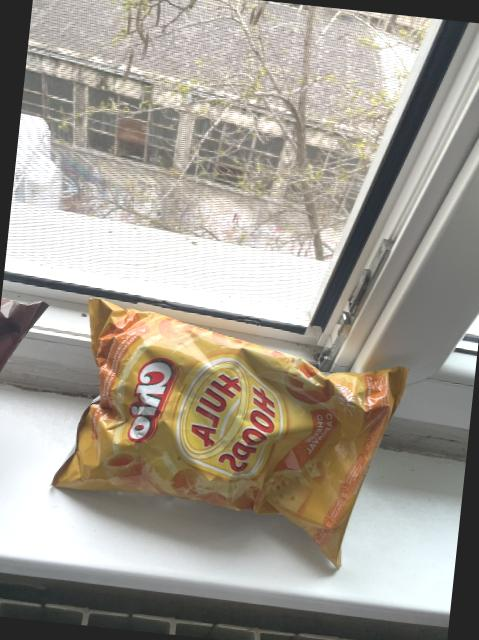Chio Hula Hoops Cheese 70g: (59, 299, 409, 572)
